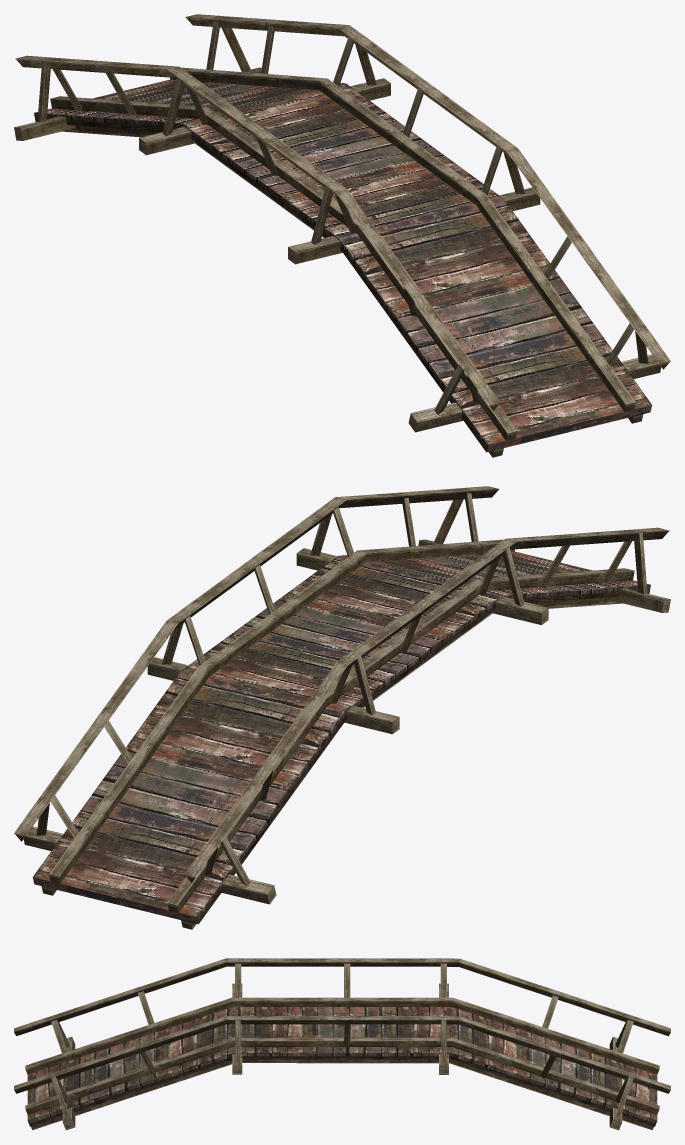
Rendered from loc2_15.glb.
The picture shows the model from 3 angles, top to bottom: view 1: azimuth 30°, elevation 25°; view 2: azimuth 150°, elevation 25°; view 3: azimuth 270°, elevation 25°; orthographic projection. The views are drawn at different scales.
Visible parts, largest first — view 1: loc2_15; view 2: loc2_15; view 3: loc2_15.
Boxes of the visible parts, x1,y1,x2,y2 form: loc2_15: (14,14,670,457); loc2_15: (14,486,670,929); loc2_15: (14,958,670,1130).
Bounding box in the file's own units: 6.31 × 4.11 × 21.14.
3 materials, 3 textured.
